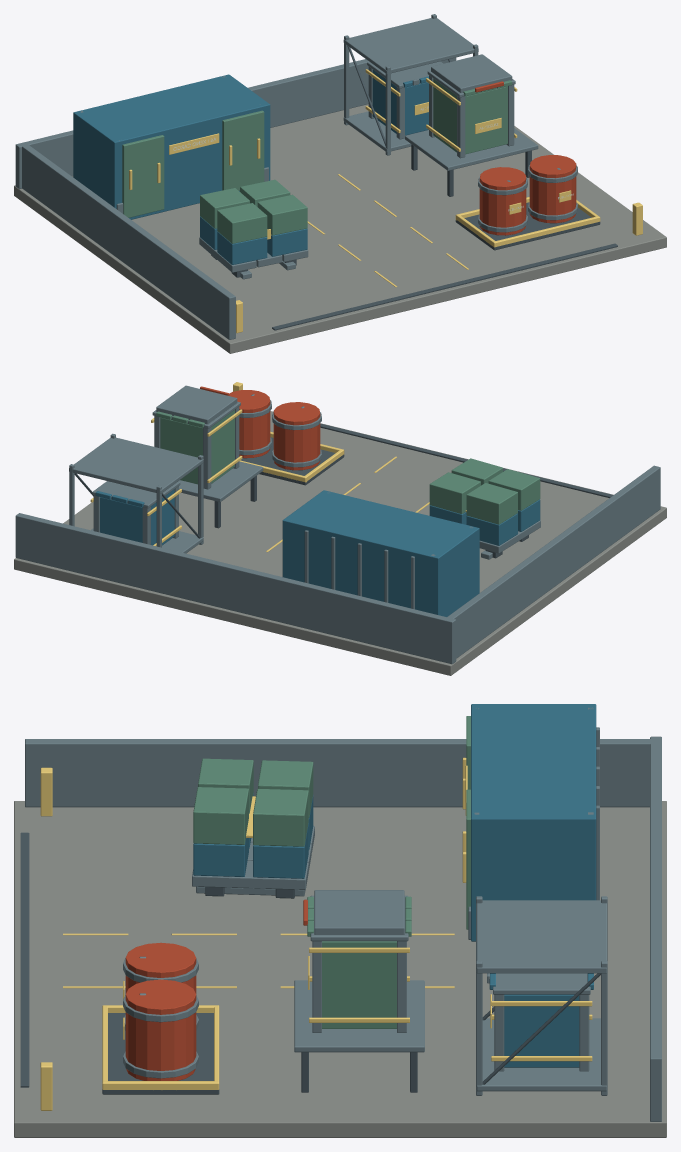
The model's file is warehouse_scene_d0.glb.
3 views of the same model, one above another, from view 1: azimuth 30°, elevation 25°; view 2: azimuth 150°, elevation 25°; view 3: azimuth 270°, elevation 25° (orthographic). The views are drawn at different scales.
Visible parts, largest first — view 1: Loading bay slab, Container body, Left cutaway wall, Rear cutaway wall, Full depth shelf deck.001, Crate shell.001, Container door.001, Container door, Barrel body, Barrel body.001, Packing bench top, Reinforced lid (+15 smaller); view 2: Loading bay slab, Rear cutaway wall, Container body, Left cutaway wall, Full depth shelf deck.001, Crate shell.001, Barrel body, Crate shell, Reinforced lid, Barrel body.001, Stacked crate.005, Stacked crate.007 (+12 smaller); view 3: Loading bay slab, Left cutaway wall, Container body, Full depth shelf deck.001, Barrel body.001, Crate shell.001, Packing bench top, Rear cutaway wall, Crate shell, Reinforced lid, Full depth shelf deck, Stacked crate.007 (+24 smaller).
Part boxes in pixels (x1,y1,x2,y2): Loading bay slab: (14, 104, 666, 353); Container body: (73, 74, 270, 219); Left cutaway wall: (21, 143, 235, 339); Rear cutaway wall: (15, 57, 456, 189); Full depth shelf deck.001: (343, 18, 478, 74); Crate shell.001: (433, 78, 507, 154); Container door.001: (122, 135, 164, 217); Container door: (222, 110, 264, 190); Barrel body: (479, 167, 526, 235); Barrel body.001: (529, 155, 576, 223); Packing bench top: (405, 128, 538, 170); Reinforced lid: (431, 54, 512, 92); Loading bay slab: (14, 411, 666, 675); Rear cutaway wall: (15, 513, 456, 664); Container body: (282, 490, 479, 616); Left cutaway wall: (446, 465, 660, 658); Full depth shelf deck.001: (69, 437, 203, 493); Crate shell.001: (160, 410, 234, 484); Barrel body: (273, 402, 320, 470); Crate shell: (100, 489, 174, 545); Reinforced lid: (156, 385, 237, 424); Barrel body.001: (229, 390, 270, 458); Stacked crate.005: (466, 483, 517, 524); Stacked crate.007: (429, 472, 480, 513); Loading bay slab: (14, 801, 666, 1137); Left cutaway wall: (25, 739, 654, 807); Container body: (471, 704, 596, 941); Full depth shelf deck.001: (476, 900, 606, 973); Barrel body.001: (125, 979, 196, 1080); Crate shell.001: (322, 941, 396, 1028); Packing bench top: (294, 980, 424, 1052); Rear cutaway wall: (650, 736, 661, 1121); Crate shell: (504, 994, 579, 1067); Reinforced lid: (314, 890, 404, 934); Full depth shelf deck: (476, 1018, 606, 1091); Stacked crate.007: (253, 788, 308, 846).
Size of the model in its own units: 14 by 3.44 by 12.
